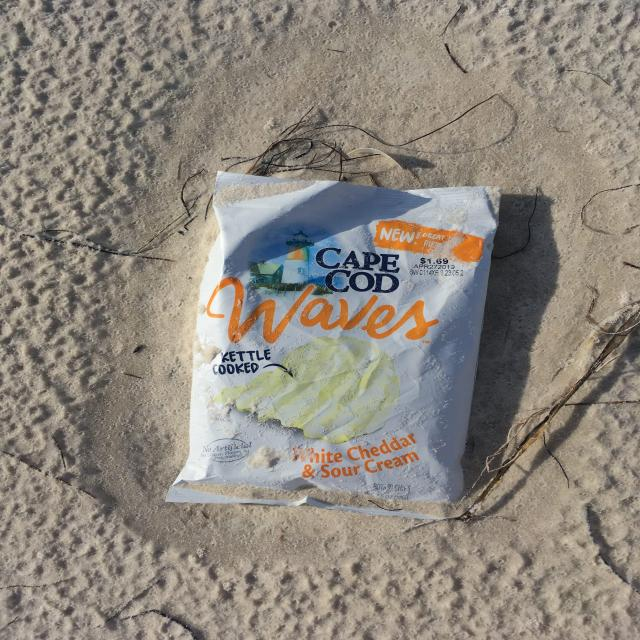litter: (164, 172, 501, 517)
